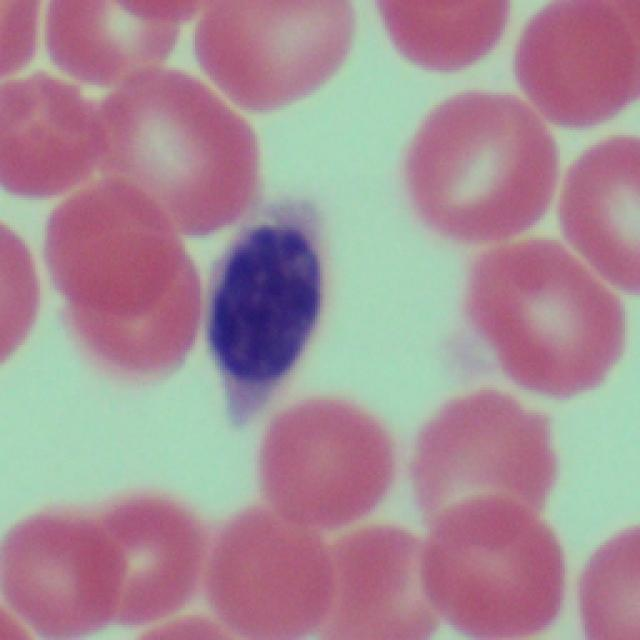RBC: (90, 72, 262, 238), (468, 243, 626, 405), (405, 90, 559, 242), (412, 391, 560, 537), (426, 491, 567, 637), (65, 239, 198, 393), (45, 180, 186, 314), (256, 391, 391, 526), (74, 488, 212, 619), (193, 0, 355, 106), (198, 511, 330, 637), (0, 508, 125, 638), (311, 527, 458, 635), (516, 6, 640, 124), (0, 72, 111, 199), (564, 138, 640, 295), (43, 0, 183, 81), (370, 0, 510, 73), (580, 523, 640, 640), (0, 224, 41, 372), (0, 0, 44, 76)
WBC: (202, 195, 326, 421)
